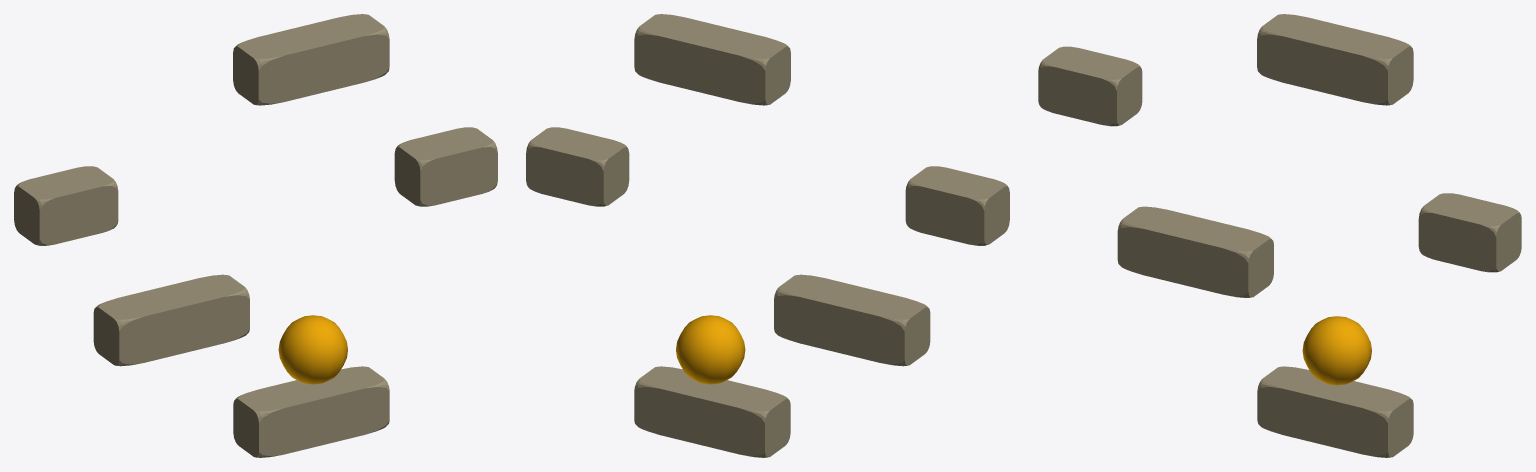
Rendered from Ball and Platform.fbx.
3 renders of one model, left to right at view 1: azimuth 30°, elevation 25°; view 2: azimuth 150°, elevation 25°; view 3: azimuth 330°, elevation 25°, orthographic.
Visible parts, largest first — view 1: Cube, Cube.003, Cube.004, Cube.002, Cube.001, Sphere; view 2: Cube, Cube.003, Cube.004, Cube.002, Cube.001, Sphere; view 3: Cube, Cube.003, Cube.004, Cube.002, Cube.001, Sphere.
Part boxes in pixels (bbox=[...]): Cube: bbox=[233, 14, 389, 105]; Cube.003: bbox=[93, 274, 249, 366]; Cube.004: bbox=[233, 366, 389, 457]; Cube.002: bbox=[14, 166, 118, 245]; Cube.001: bbox=[394, 127, 497, 206]; Sphere: bbox=[278, 315, 347, 384]; Cube: bbox=[634, 14, 790, 105]; Cube.003: bbox=[774, 274, 930, 366]; Cube.004: bbox=[634, 366, 790, 457]; Cube.002: bbox=[905, 166, 1009, 245]; Cube.001: bbox=[526, 127, 629, 206]; Sphere: bbox=[676, 315, 745, 384]; Cube: bbox=[1257, 14, 1413, 105]; Cube.003: bbox=[1117, 206, 1273, 297]; Cube.004: bbox=[1257, 366, 1413, 457]; Cube.002: bbox=[1038, 46, 1142, 126]; Cube.001: bbox=[1418, 193, 1521, 272]; Sphere: bbox=[1302, 316, 1371, 385].
Size of the model in its own units: 538 by 448 by 70.81.
